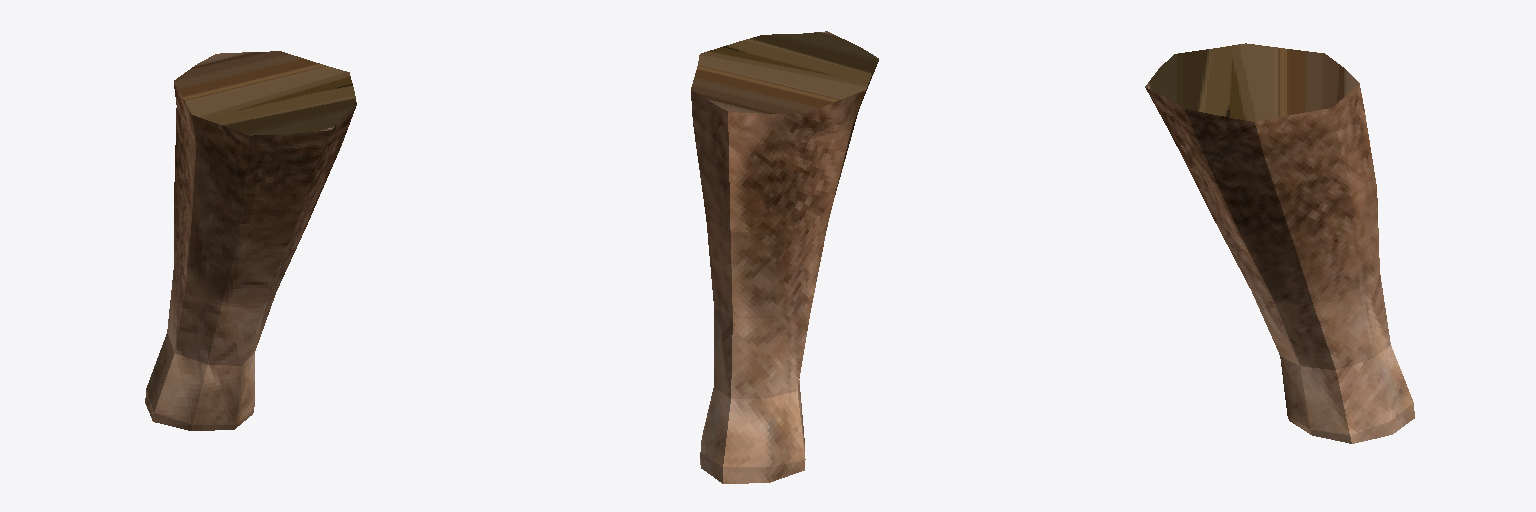
3 renders of one model, left to right at view 1: azimuth 30°, elevation 25°; view 2: azimuth 150°, elevation 25°; view 3: azimuth 270°, elevation 25°, orthographic.
Visible parts, largest first — view 1: DL_Rodilla; view 2: DL_Rodilla; view 3: DL_Rodilla.
Boxes of the visible parts, <box> form: DL_Rodilla: <box>145,51,356,430</box>; DL_Rodilla: <box>691,31,878,483</box>; DL_Rodilla: <box>1145,43,1414,443</box>.
Size of the model in its own units: 0.1999 by 0.4092 by 0.2892.
1 materials, 1 textured.